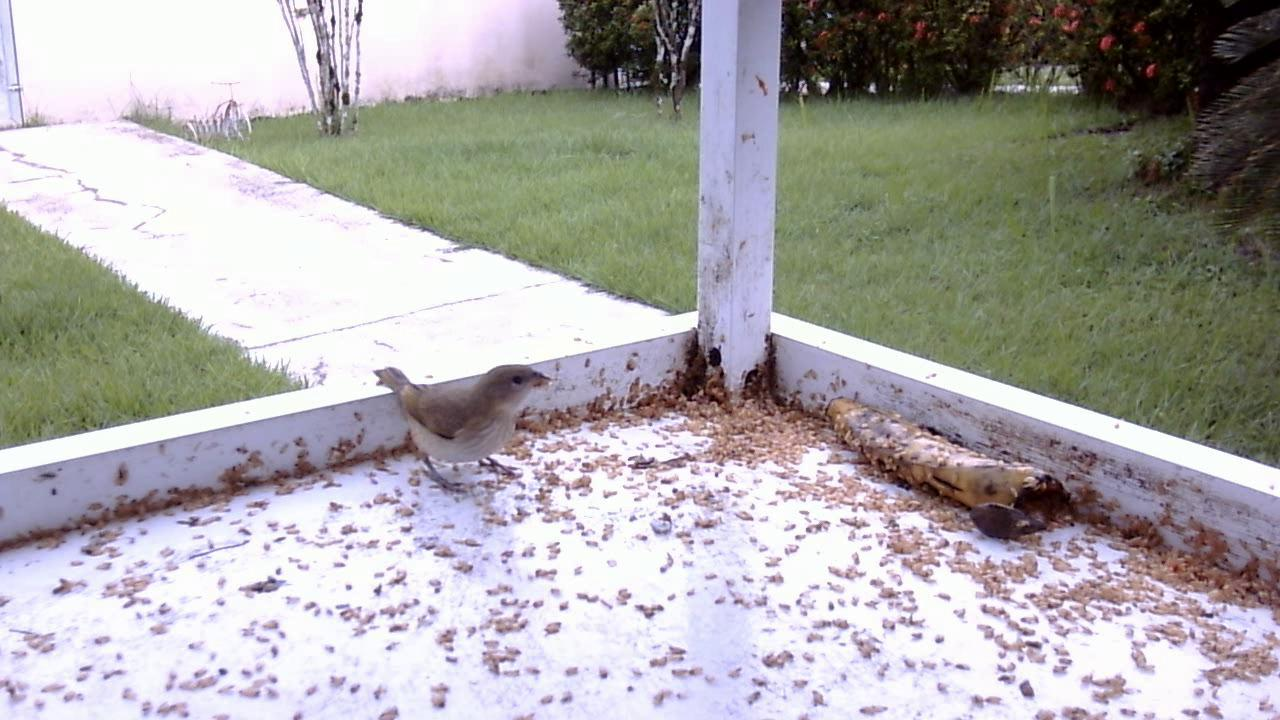canario_do_amazonas: (367, 354, 554, 501)
